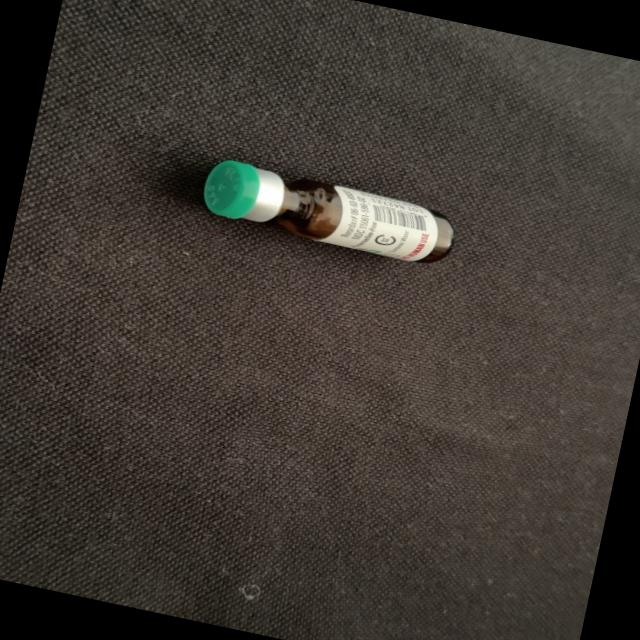midazolm: (200, 156, 455, 268)
